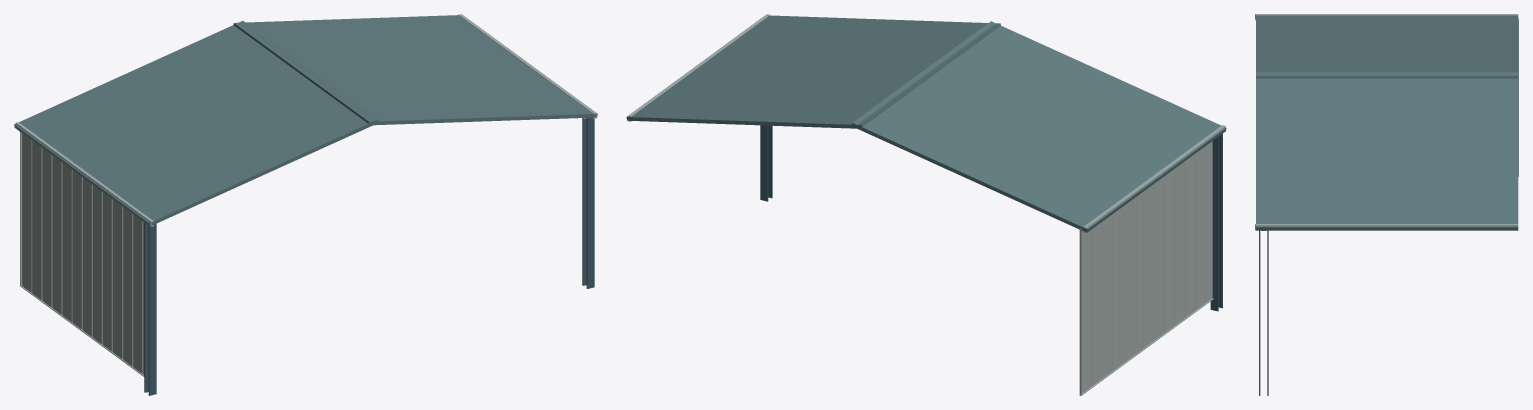
The model's file is coil-bay.glb.
The picture shows the model from 3 angles, left to right: view 1: azimuth 30°, elevation 25°; view 2: azimuth 150°, elevation 25°; view 3: azimuth 270°, elevation 25°; orthographic projection. The views are drawn at different scales.
Parts seen in each view (by area): view 1: painted-roof, pressed-wall, painted-front-portals, zinc-eave-and-flashing; view 2: painted-roof, pressed-wall, painted-front-portals, zinc-eave-and-flashing; view 3: painted-roof, zinc-eave-and-flashing, painted-front-portals.
Boxes of the visible parts, x1,y1,x2,y2 form: painted-roof: [14, 15, 597, 226]; pressed-wall: [22, 133, 144, 374]; painted-front-portals: [144, 117, 594, 395]; zinc-eave-and-flashing: [15, 14, 596, 376]; painted-roof: [626, 15, 1226, 232]; pressed-wall: [1081, 141, 1212, 393]; painted-front-portals: [760, 125, 1222, 311]; zinc-eave-and-flashing: [628, 14, 1225, 395]; painted-roof: [1256, 15, 1518, 230]; zinc-eave-and-flashing: [1255, 14, 1518, 230]; painted-front-portals: [1259, 230, 1268, 395].
Bounding box in the file's own units: 28.68 × 13.57 × 15.03.
